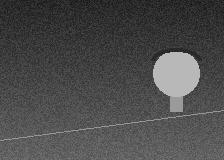no_helmet: (153, 48, 199, 101)
